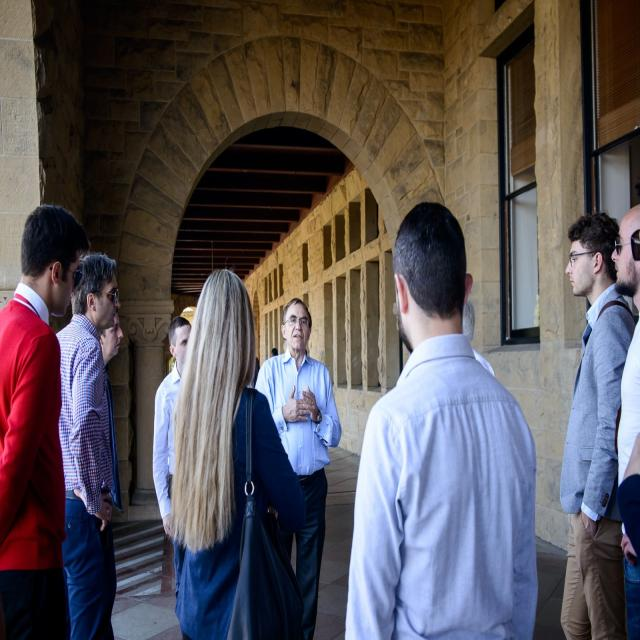body: (335, 196, 541, 640), (170, 267, 310, 640), (0, 195, 91, 639), (556, 205, 638, 640), (251, 294, 344, 640), (49, 248, 122, 640), (608, 204, 640, 640), (151, 314, 197, 594), (95, 300, 127, 639), (462, 298, 496, 379), (250, 356, 262, 392), (270, 347, 282, 357)
